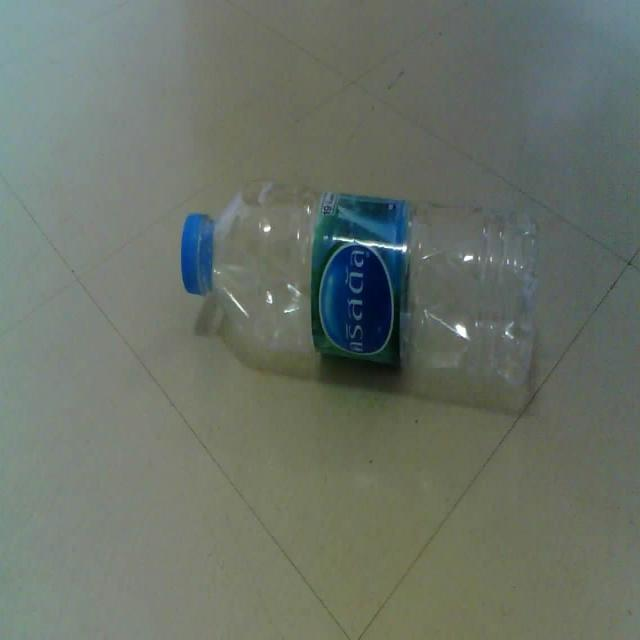empty: (181, 181, 538, 397)
